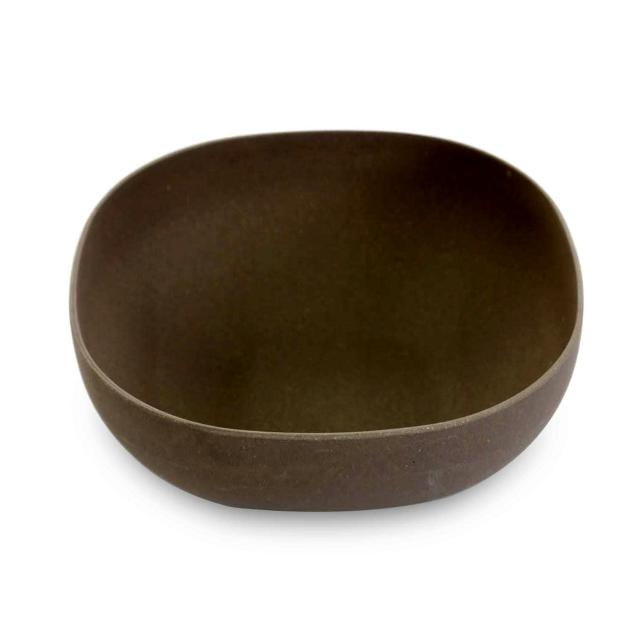Bowl: (70, 131, 583, 511)
